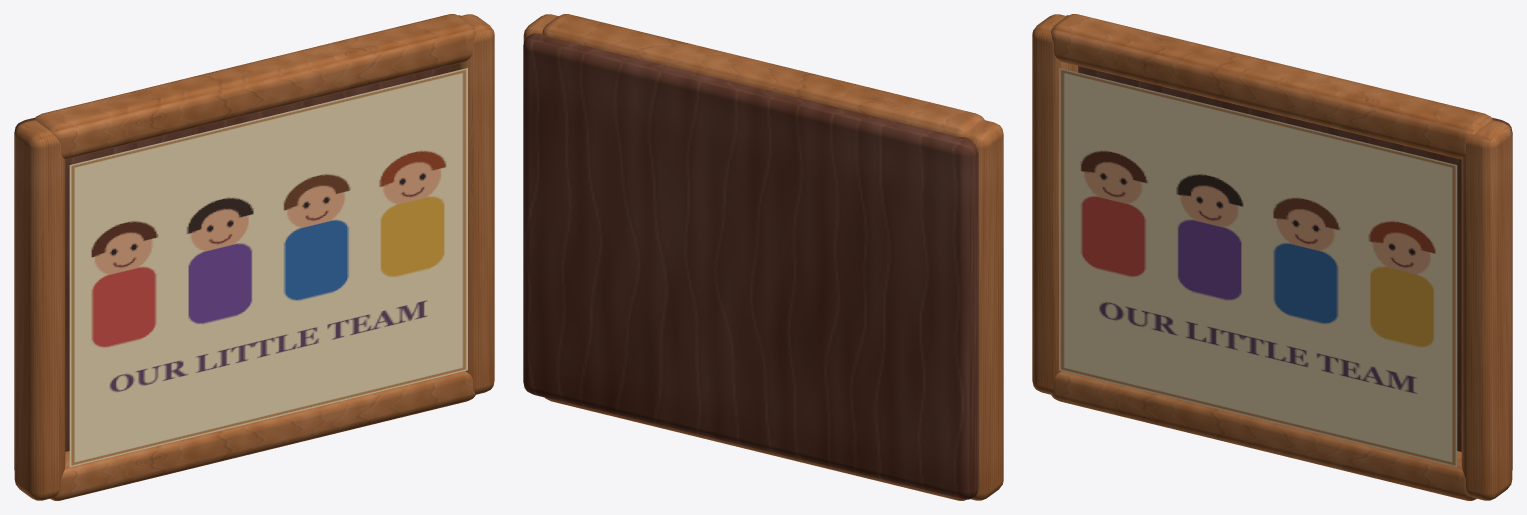
The model's file is V5_FamilyFrame.fbx.
3 renders of one model, left to right at view 1: azimuth 30°, elevation 25°; view 2: azimuth 150°, elevation 25°; view 3: azimuth 330°, elevation 25°, orthographic.
Visible parts, largest first — view 1: V5_FamilyFrame; view 2: V5_FamilyFrame; view 3: V5_FamilyFrame.
Boxes of the visible parts, x1,y1,x2,y2 form: V5_FamilyFrame: (14,14,494,500); V5_FamilyFrame: (523,14,1003,500); V5_FamilyFrame: (1032,14,1512,500).
Size of the model in its own units: 0.595 by 0.461 by 0.0735.
2 materials, 2 textured.
